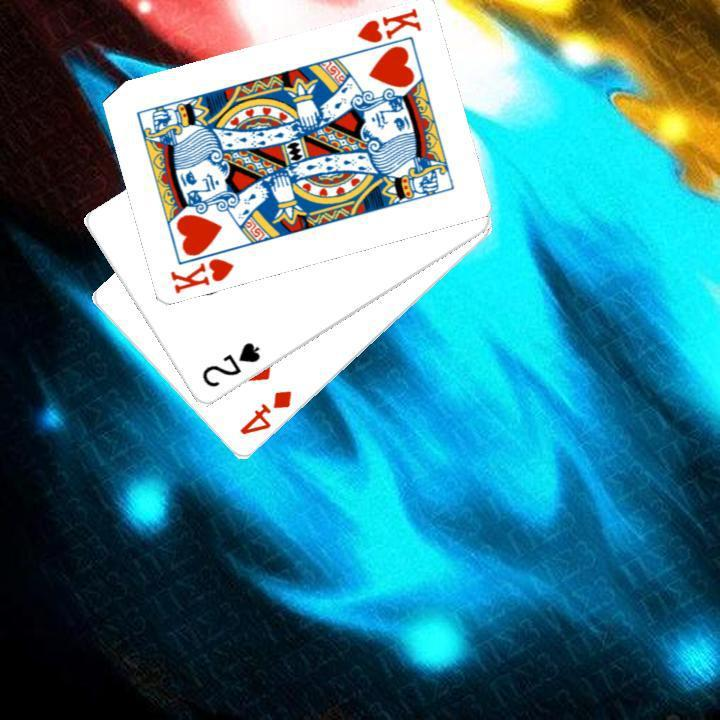2: (197, 338, 262, 390)
4: (235, 386, 294, 438)
K: (165, 254, 236, 296), (352, 5, 423, 46)
